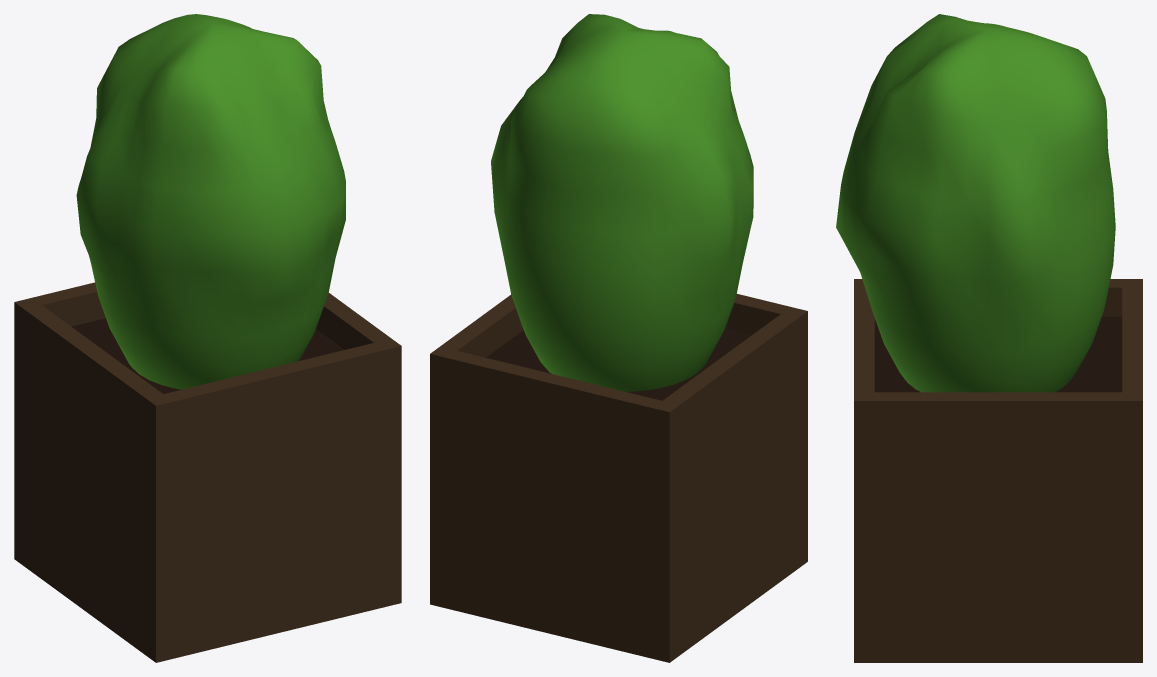
The model's file is Plant.fbx.
3 renders of one model, left to right at view 1: azimuth 30°, elevation 25°; view 2: azimuth 150°, elevation 25°; view 3: azimuth 270°, elevation 25°, orthographic. The views are drawn at different scales.
Parts seen in each view (by area): view 1: Cube.007, Sphere; view 2: Cube.007, Sphere; view 3: Cube.007, Sphere.
Boxes of the visible parts, x1,y1,x2,y2 form: Cube.007: [14, 282, 401, 662]; Sphere: [76, 14, 345, 389]; Cube.007: [430, 294, 807, 662]; Sphere: [491, 14, 753, 391]; Cube.007: [854, 279, 1142, 662]; Sphere: [836, 14, 1115, 392].
Size of the model in its own units: 106 by 232 by 113.
